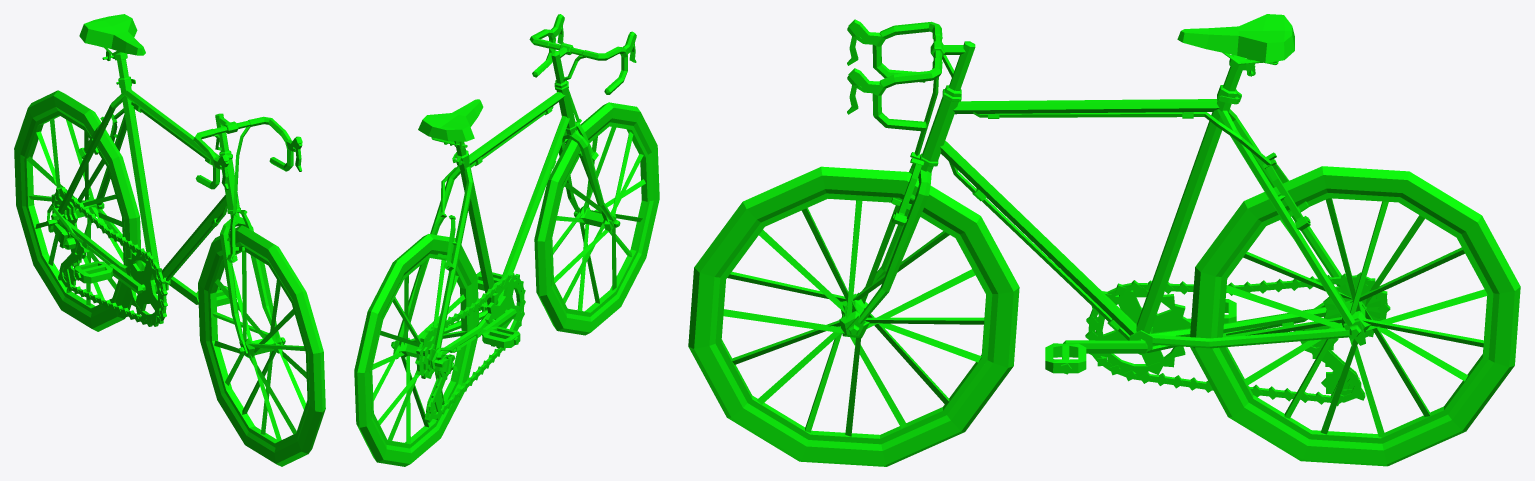
Rendered from SM_Bike_Road_Modern.fbx.
3 renders of one model, left to right at view 1: azimuth 30°, elevation 25°; view 2: azimuth 150°, elevation 25°; view 3: azimuth 270°, elevation 25°, orthographic. The views are drawn at different scales.
Parts seen in each view (by area): view 1: SM_Bike_Road_Modern_Base, SM_Bike_Road_Modern_Wheel_F, SM_Bike_Road_Modern_Wheel_B, SM_Bike_Road_Modern_Handlebars, SM_Bike_Road_Modern_Crank_Pedal_R, SM_Bike_Road_Modern_Crank_Arm_R, SM_Bike_Road_Modern_Crank_Arm_L; view 2: SM_Bike_Road_Modern_Base, SM_Bike_Road_Modern_Wheel_F, SM_Bike_Road_Modern_Wheel_B, SM_Bike_Road_Modern_Handlebars, SM_Bike_Road_Modern_Crank_Pedal_R; view 3: SM_Bike_Road_Modern_Wheel_F, SM_Bike_Road_Modern_Wheel_B, SM_Bike_Road_Modern_Base, SM_Bike_Road_Modern_Handlebars, SM_Bike_Road_Modern_Crank_Pedal_L, SM_Bike_Road_Modern_Crank_Arm_L.
Boxes of the visible parts, bbox=[...] form: SM_Bike_Road_Modern_Base: bbox=[46, 14, 240, 326]; SM_Bike_Road_Modern_Wheel_F: bbox=[198, 225, 325, 466]; SM_Bike_Road_Modern_Wheel_B: bbox=[14, 90, 141, 331]; SM_Bike_Road_Modern_Handlebars: bbox=[193, 113, 302, 355]; SM_Bike_Road_Modern_Crank_Pedal_R: bbox=[74, 261, 112, 283]; SM_Bike_Road_Modern_Crank_Arm_R: bbox=[109, 264, 142, 293]; SM_Bike_Road_Modern_Crank_Arm_L: bbox=[169, 276, 198, 304]; SM_Bike_Road_Modern_Base: bbox=[391, 81, 576, 422]; SM_Bike_Road_Modern_Wheel_F: bbox=[534, 102, 659, 335]; SM_Bike_Road_Modern_Wheel_B: bbox=[354, 234, 479, 466]; SM_Bike_Road_Modern_Handlebars: bbox=[529, 14, 636, 227]; SM_Bike_Road_Modern_Crank_Pedal_R: bbox=[482, 326, 520, 348]; SM_Bike_Road_Modern_Wheel_F: bbox=[688, 166, 1019, 466]; SM_Bike_Road_Modern_Wheel_B: bbox=[1190, 166, 1520, 466]; SM_Bike_Road_Modern_Base: bbox=[920, 14, 1390, 406]; SM_Bike_Road_Modern_Handlebars: bbox=[846, 19, 975, 335]; SM_Bike_Road_Modern_Crank_Pedal_L: bbox=[1045, 343, 1086, 374]; SM_Bike_Road_Modern_Crank_Arm_L: bbox=[1063, 340, 1147, 353].
Size of the model in its own units: 0.3404 by 1.05 by 1.8.
